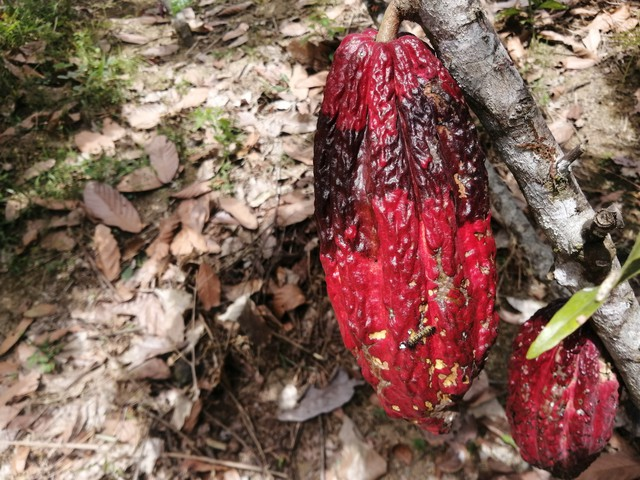phytophthora palmivora: (294, 18, 506, 445), (497, 292, 628, 480)
